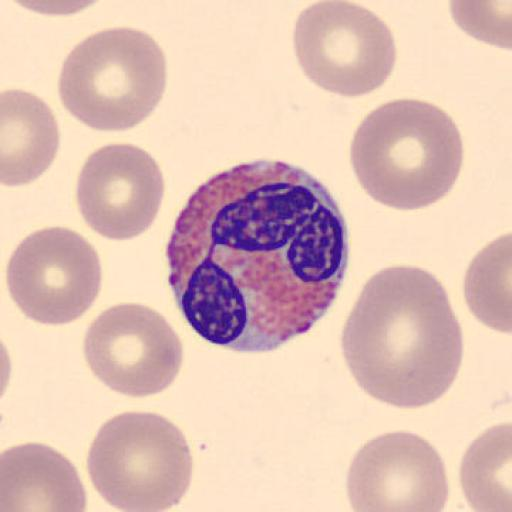RBC: (340, 263, 465, 410), (348, 96, 466, 213), (57, 25, 169, 133), (85, 409, 194, 512), (292, 0, 398, 99), (80, 300, 184, 400), (5, 223, 103, 328), (74, 141, 166, 243), (344, 429, 452, 512), (2, 440, 90, 512), (2, 87, 61, 188), (462, 228, 512, 336), (458, 420, 512, 512), (446, 0, 512, 51), (4, 0, 115, 18), (0, 333, 14, 409)
WBC: (164, 157, 351, 355)
